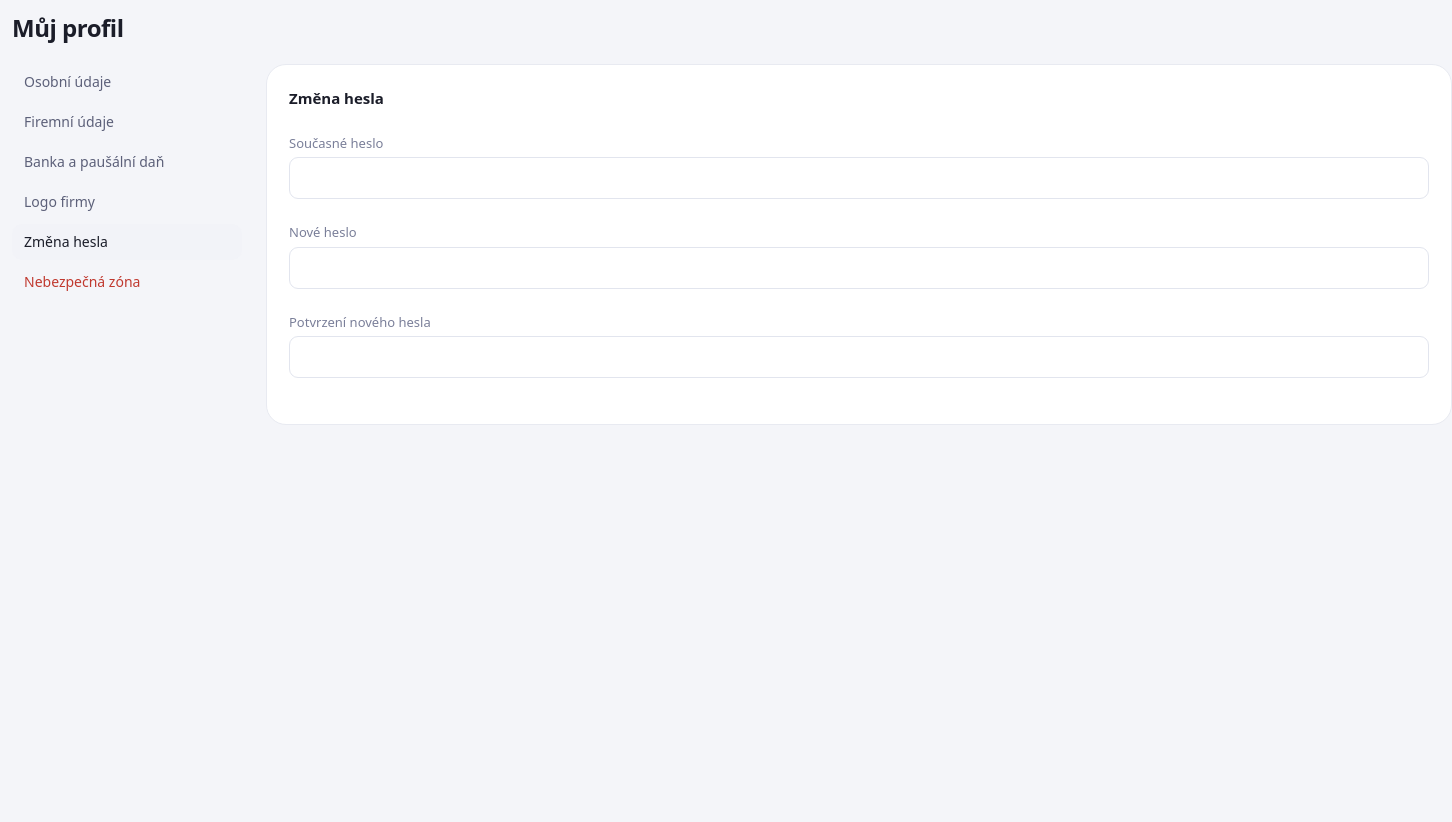
Test: Profile Component › shows the password save bar only once a password field is typed into
Expected: the button "Změnit heslo" is not shown
Type "secret123" into the password field named "currentPassword" below "Současné heslo" at (859, 178), box [289, 157, 1429, 199]
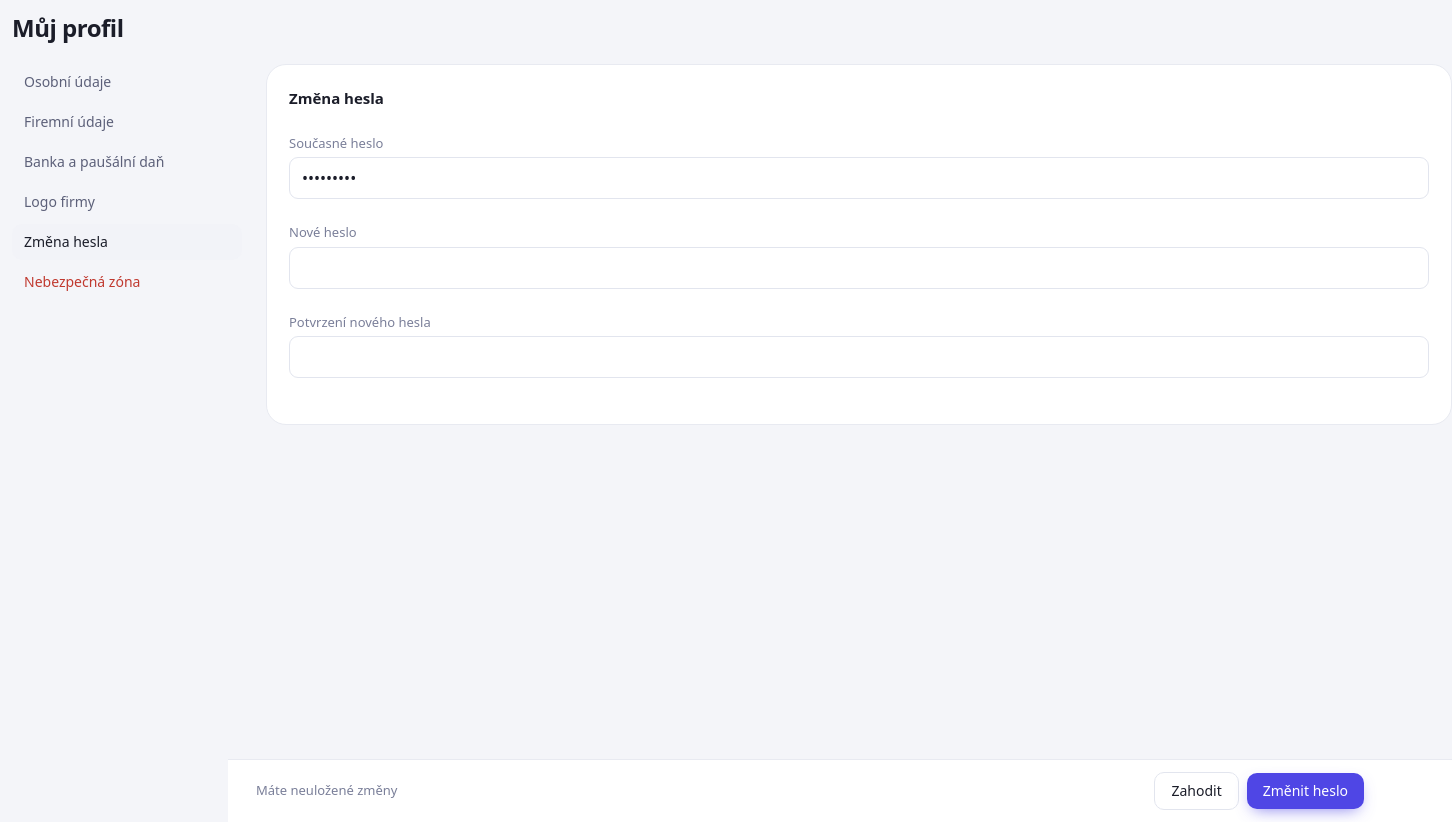
Expected: the button "Změnit heslo" is shown, [1247, 773, 1364, 809]
